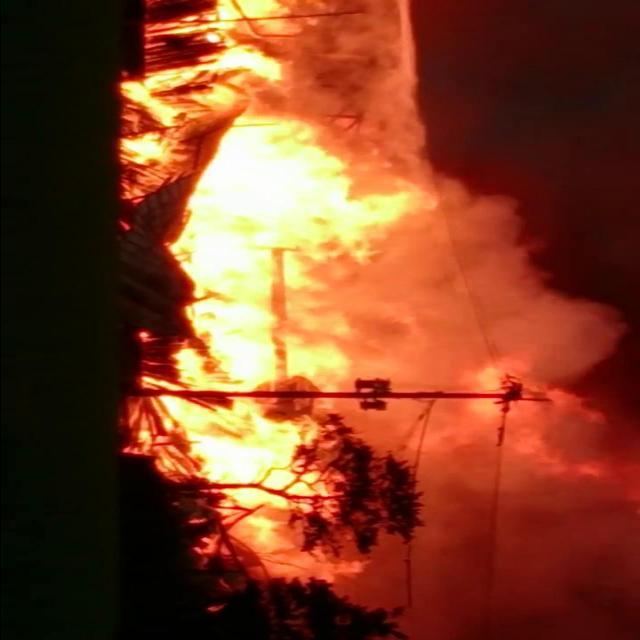Fire: (182, 119, 432, 588), (126, 2, 286, 165)
